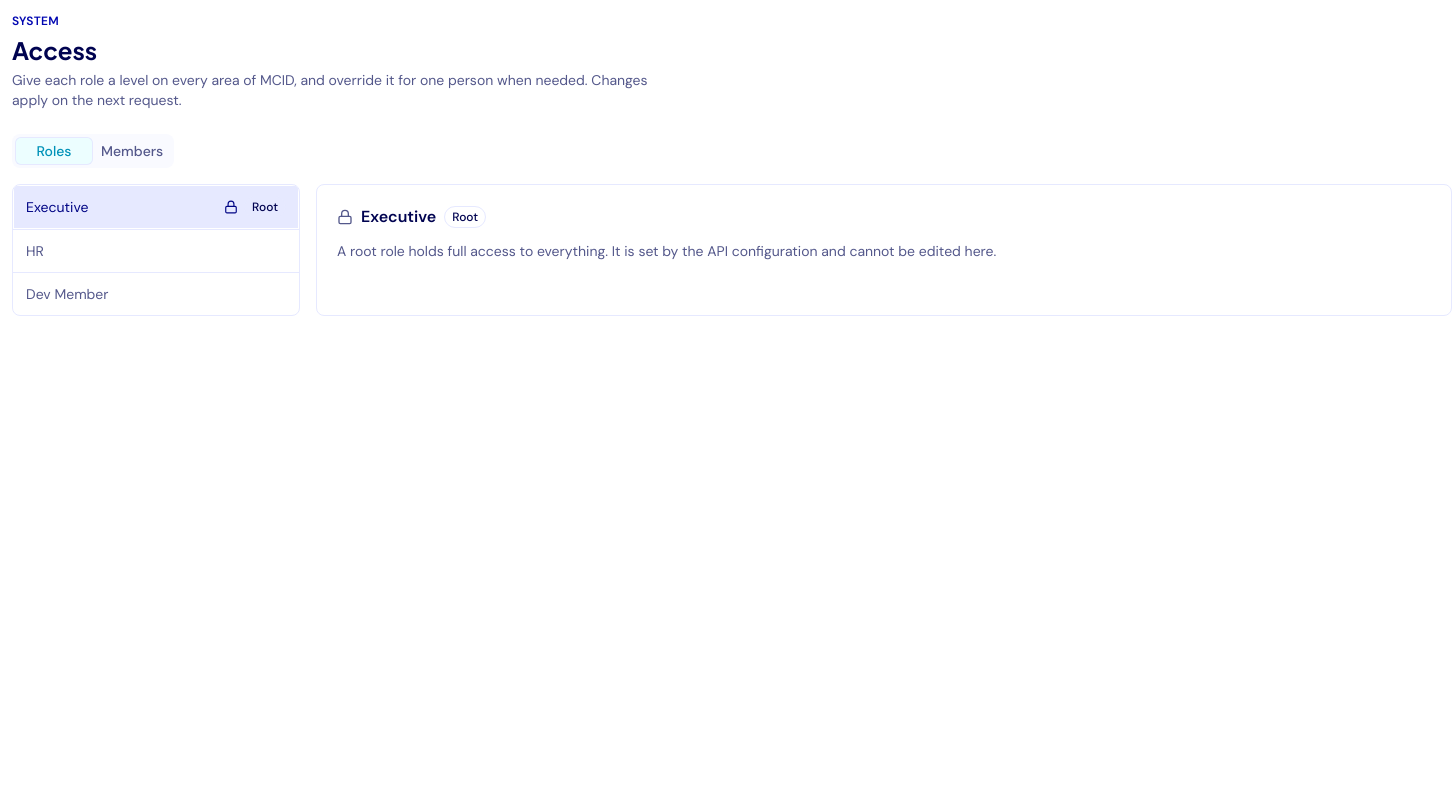
Scenario: AccessView › opens a member’s permissions from the Members tab
Click the tab "Members": (132, 151) x1=93 y1=137 x2=171 y2=165
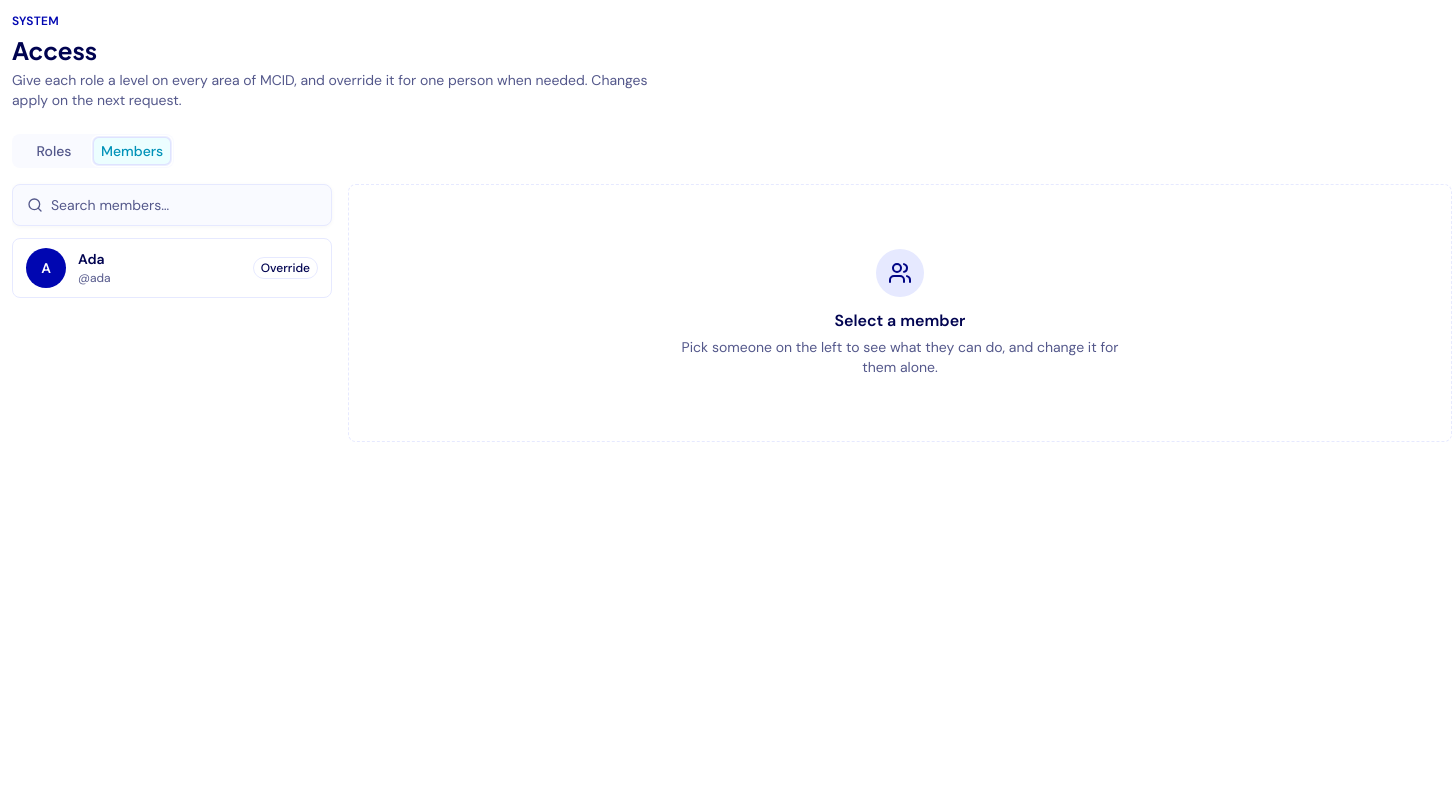
Click the button "A Ada @ada Override": (46, 268) x1=13 y1=239 x2=331 y2=297
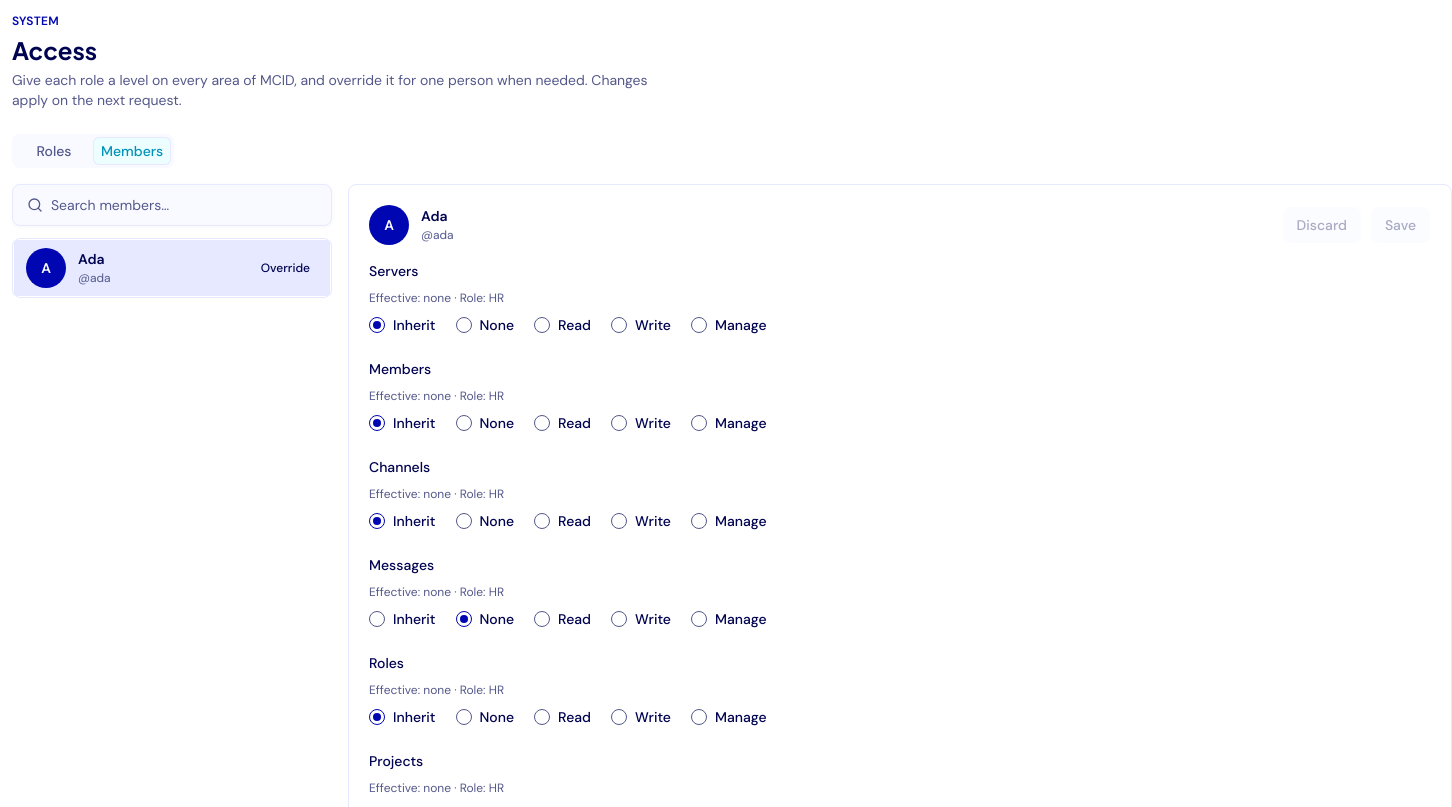
Result: the text "Effective: none · Role: HR" below "Messages" is shown at x1=369 y1=584 x2=504 y2=600
